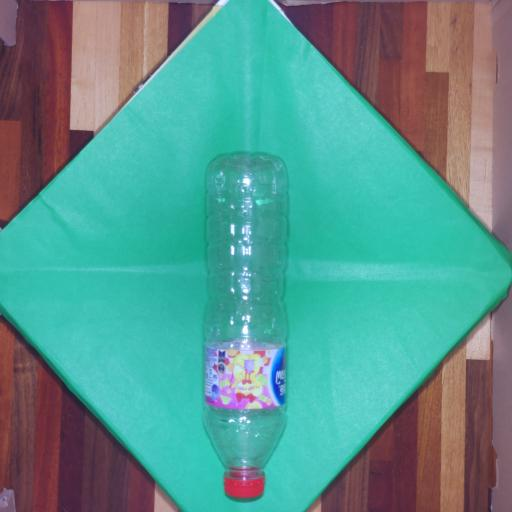bottle: (198, 140, 294, 507)
